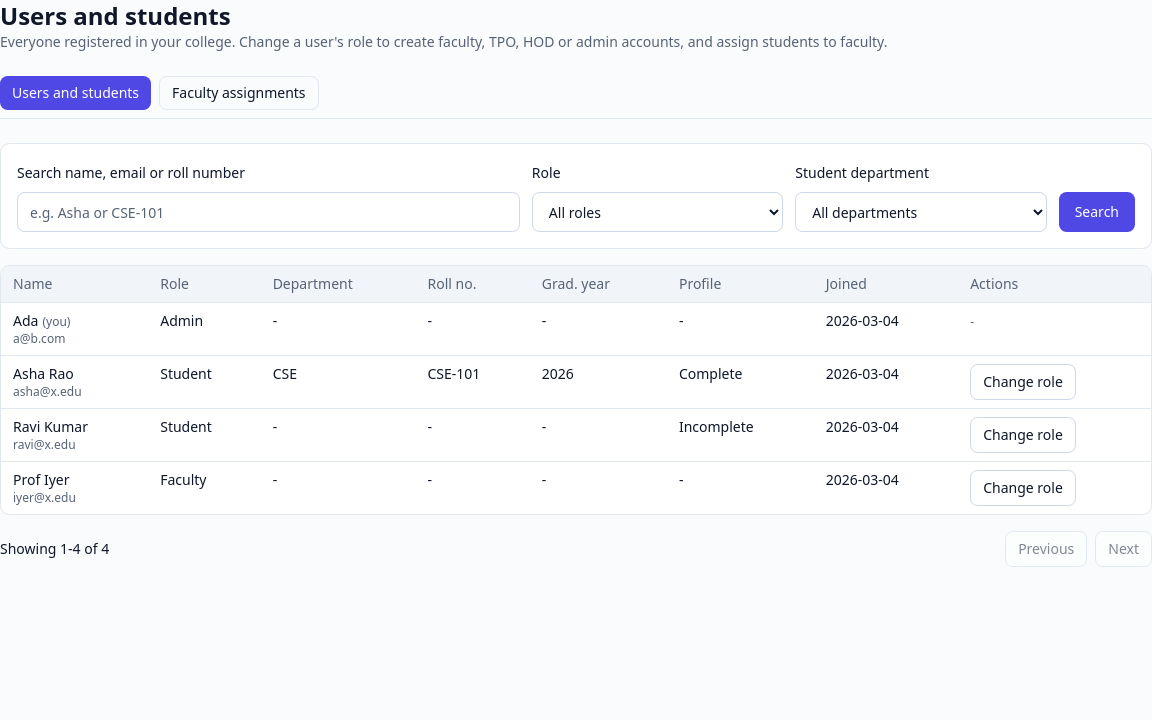
AdminUsersPage - users tab › confirms in the page before changing a role, then reports and reloads
Expected: the text "Asha Rao" is shown, [13,364,74,383]
Click the button "Change role" in the row of "Asha Rao" at [1023, 382], box [970,364,1076,400]
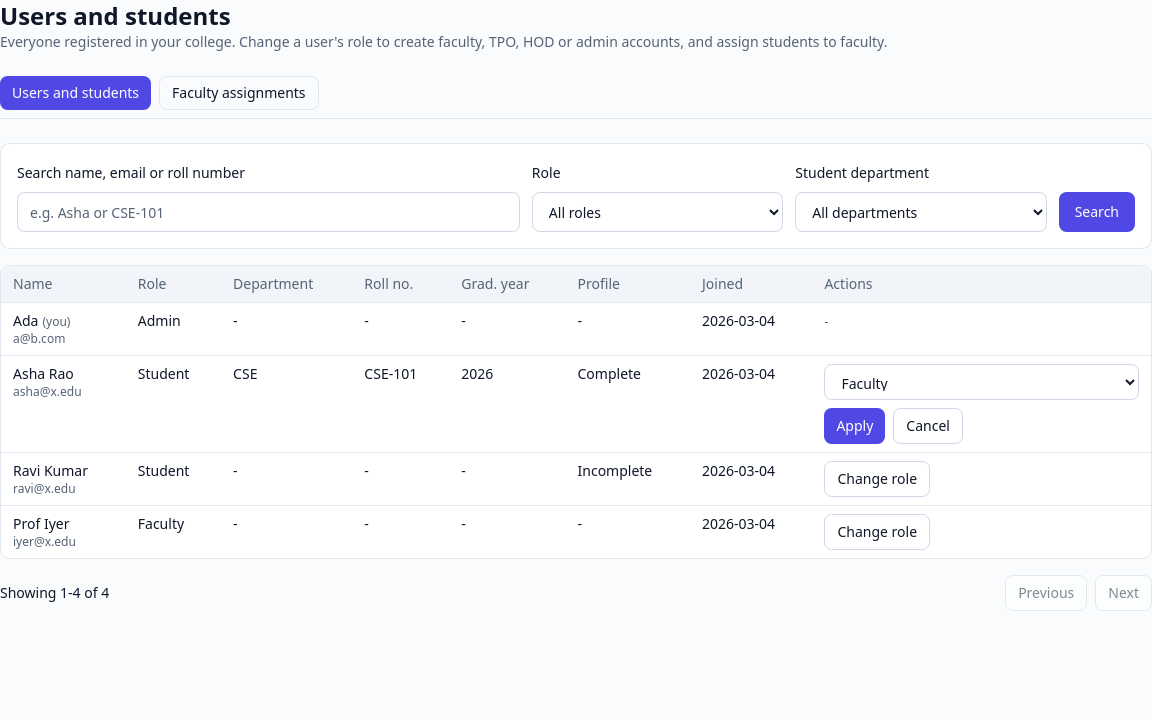
Select "Faculty" in the dropdown named "New role for Asha Rao" at [982, 382], box [824,364,1139,400]
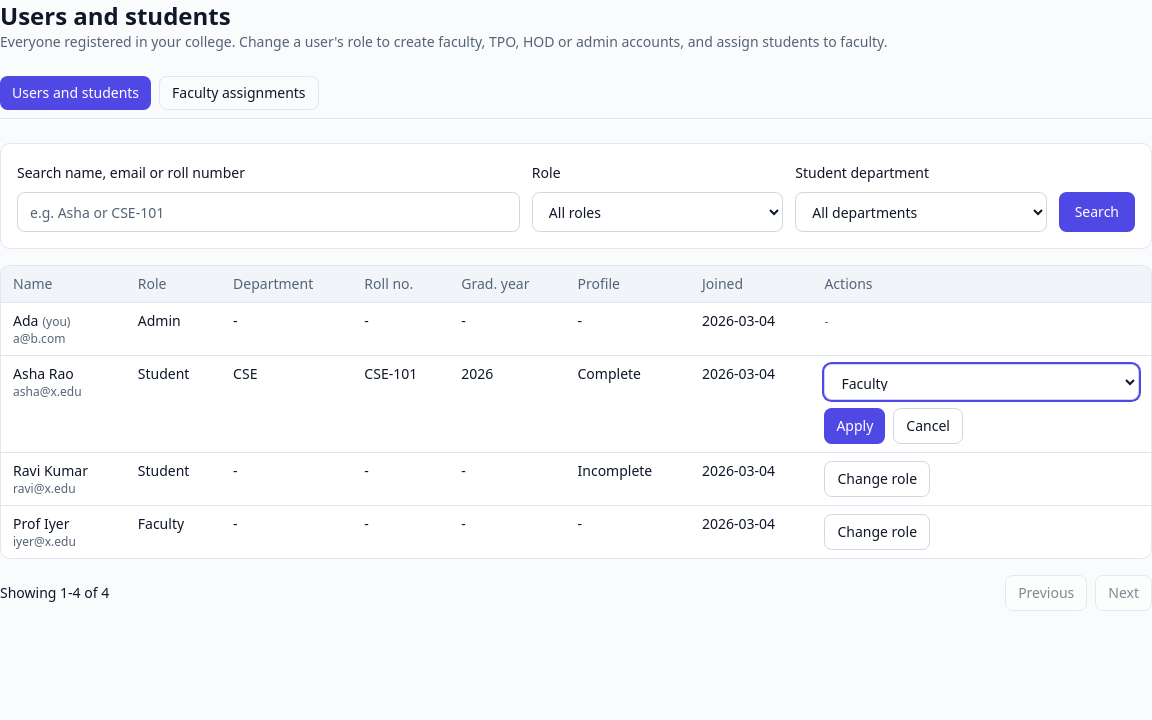
Click the button "Apply" at [855, 426], box [824,408,885,444]
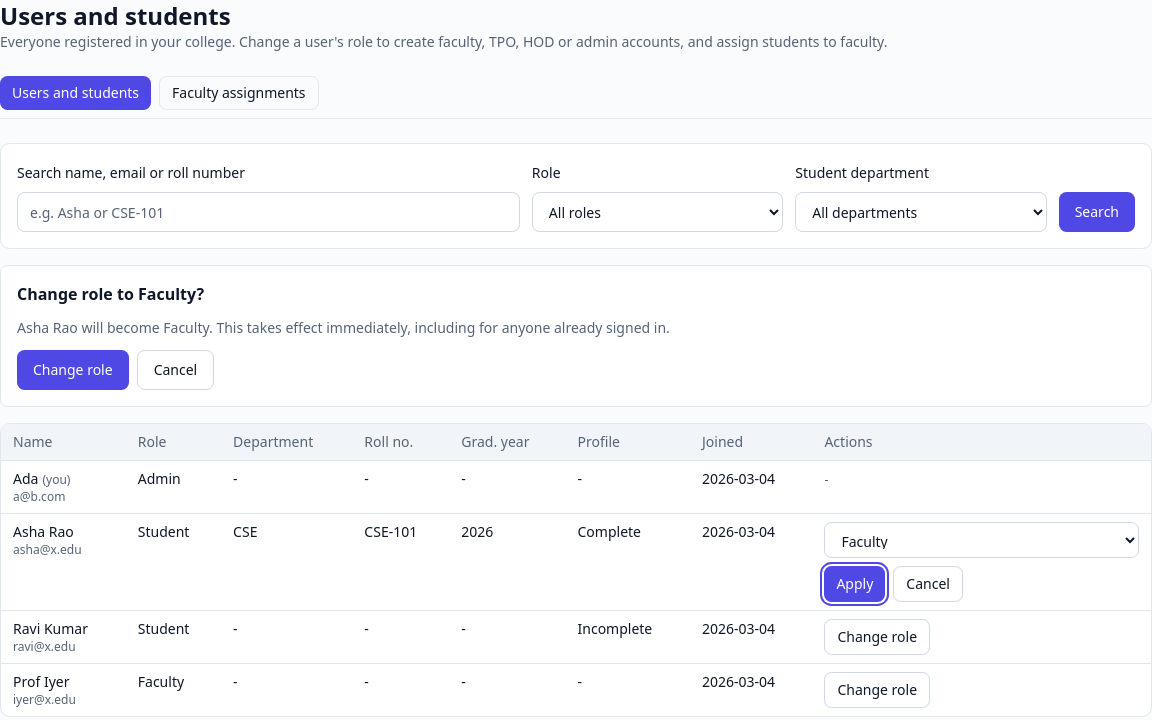
Expected: the dialog "Change role to Faculty?" shows "takes effect immediately", [17,318,670,337]
Click the button "Change role" below "Change role to Faculty?" at [73, 370], box [17,350,129,390]
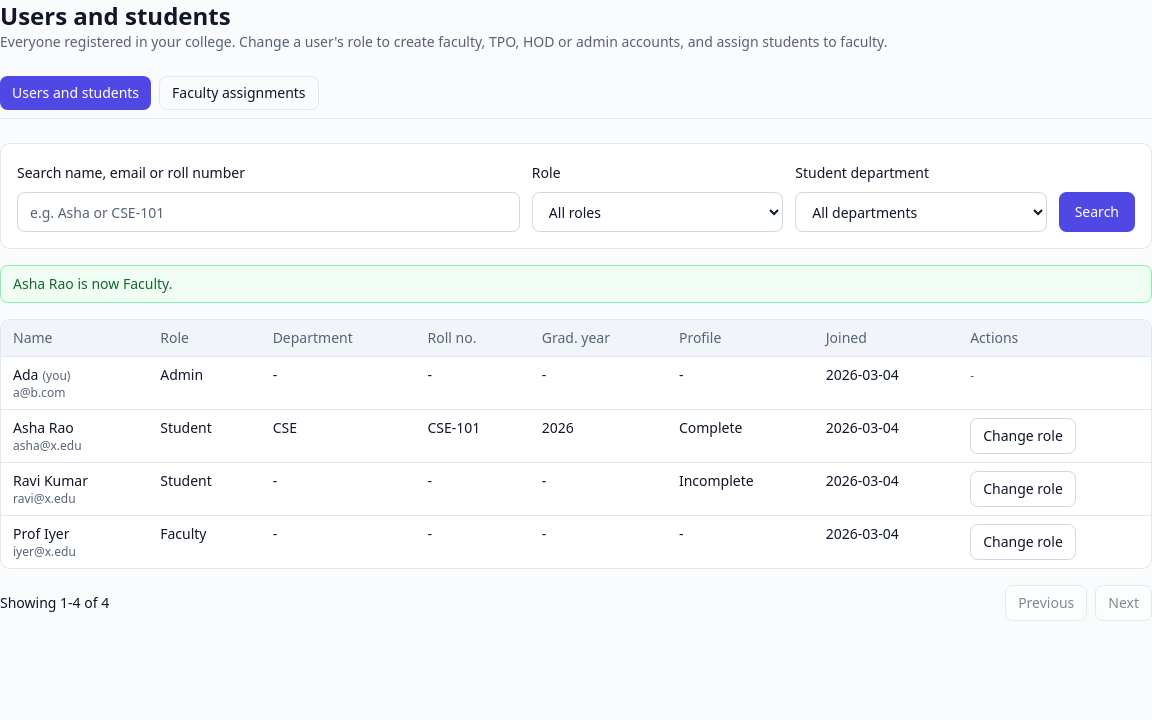
Expected: the text "Asha Rao is now Faculty." is shown, [0,265,1151,303]
